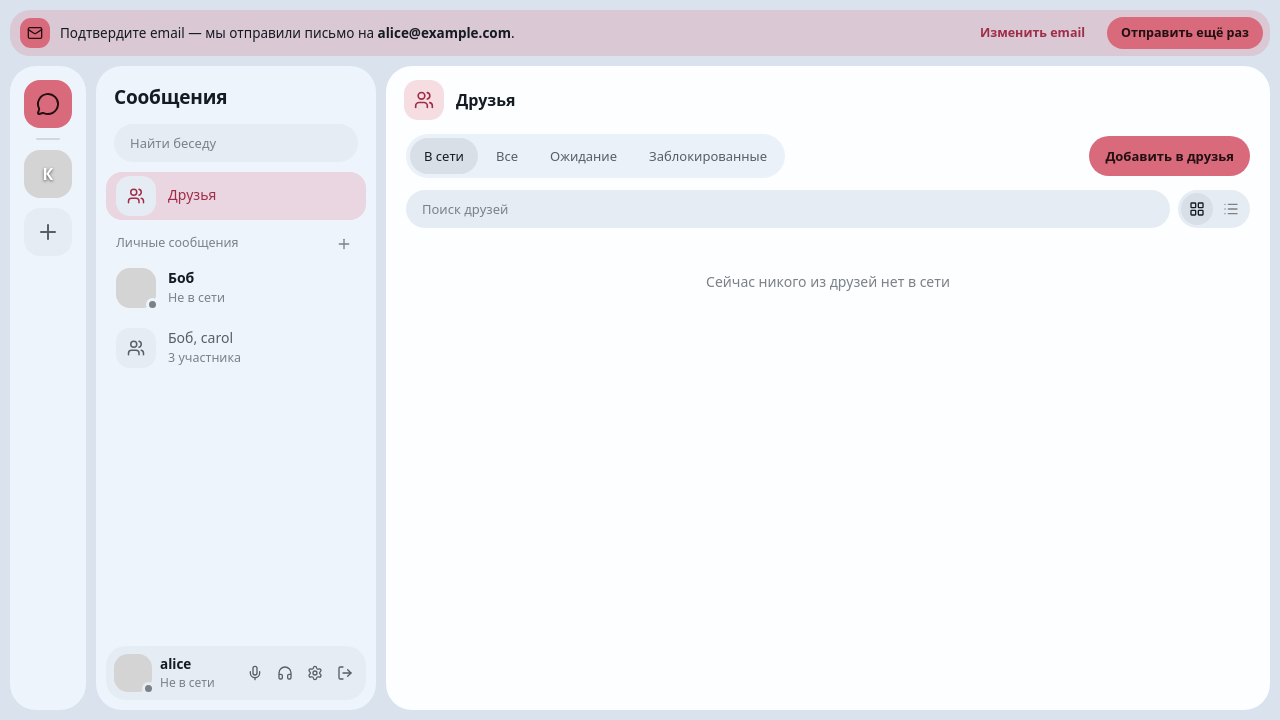
Test: changing the email › is offered right in the banner while the address is not confirmed
Click the button "Изменить email" at (1033, 33), box [968,17,1097,49]
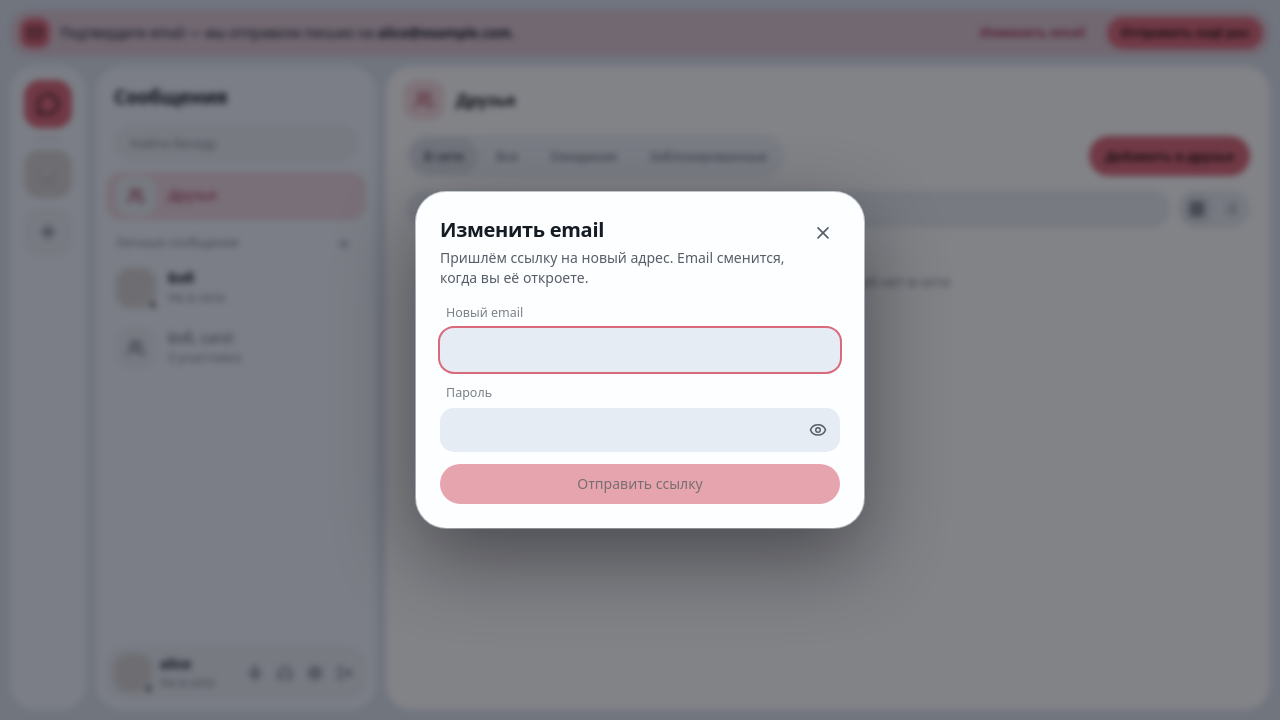
Check: the field labelled "Новый email" is shown, box [440,328,840,372]
